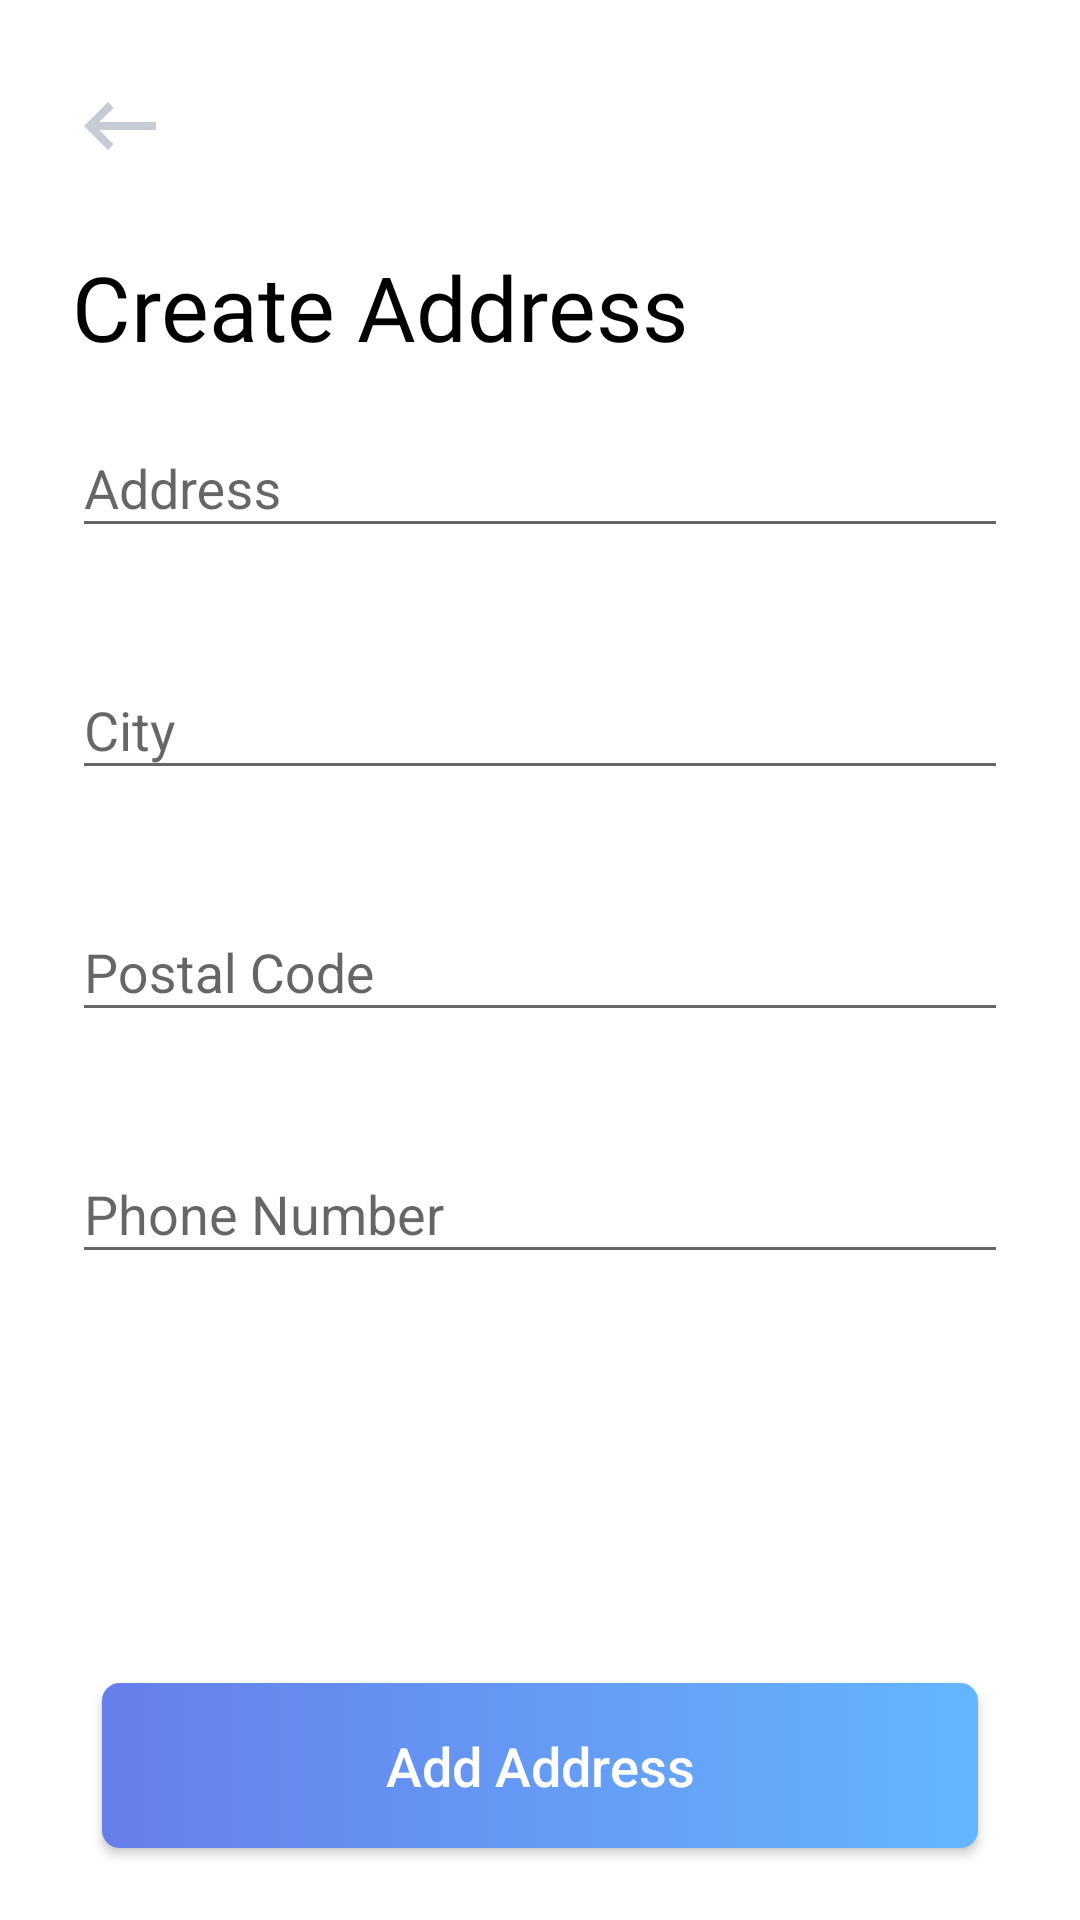

Point at icon controls on the screen. Image size 1080*1920, points as (x,y).
keyboard backspace: (120,126)
